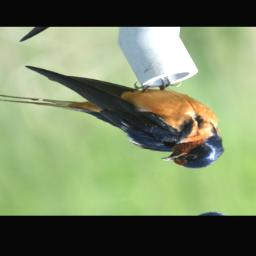Swallow: (0, 48, 231, 192)
